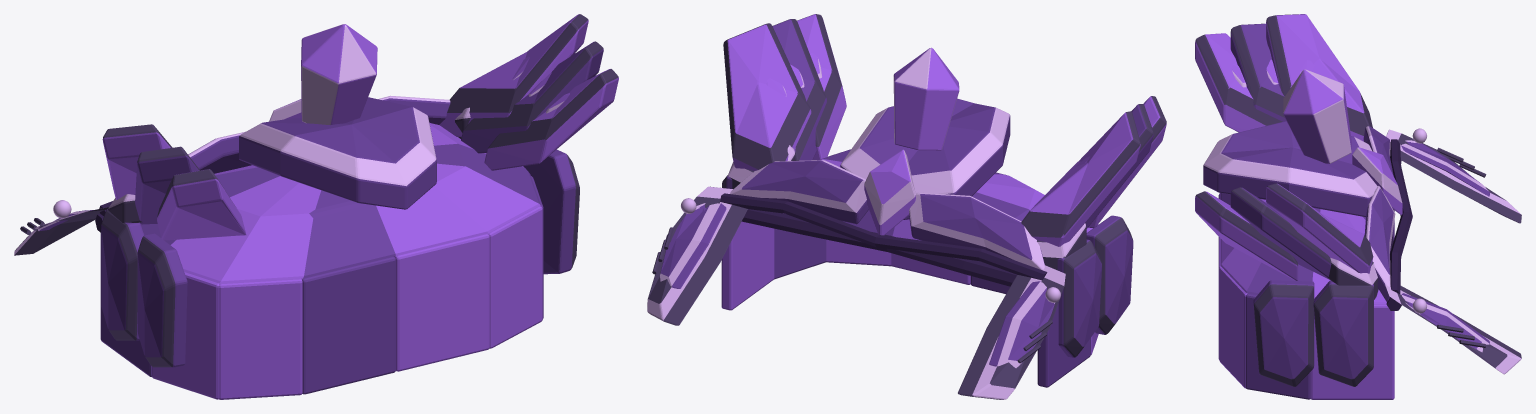
The model's file is amethyst_helmet.fbx.
3 views of the same model, side by side, from view 1: azimuth 30°, elevation 25°; view 2: azimuth 150°, elevation 25°; view 3: azimuth 270°, elevation 25° (orthographic). The views are drawn at different scales.
Visible parts, largest first — view 1: amethyst_helmet_armor; view 2: amethyst_helmet_armor; view 3: amethyst_helmet_armor.
Part boxes in pixels (x1,y1,x2,y2): amethyst_helmet_armor: (14,14,618,399); amethyst_helmet_armor: (647,14,1166,399); amethyst_helmet_armor: (1195,14,1521,399).
Bounding box in the file's own units: 4.91 × 3.01 × 3.49.
1 material, 1 textured.
